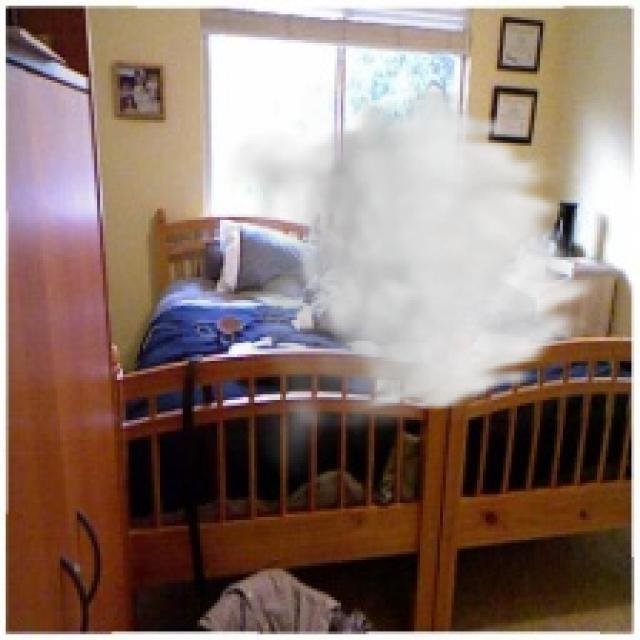Smoke: (223, 83, 603, 483)
